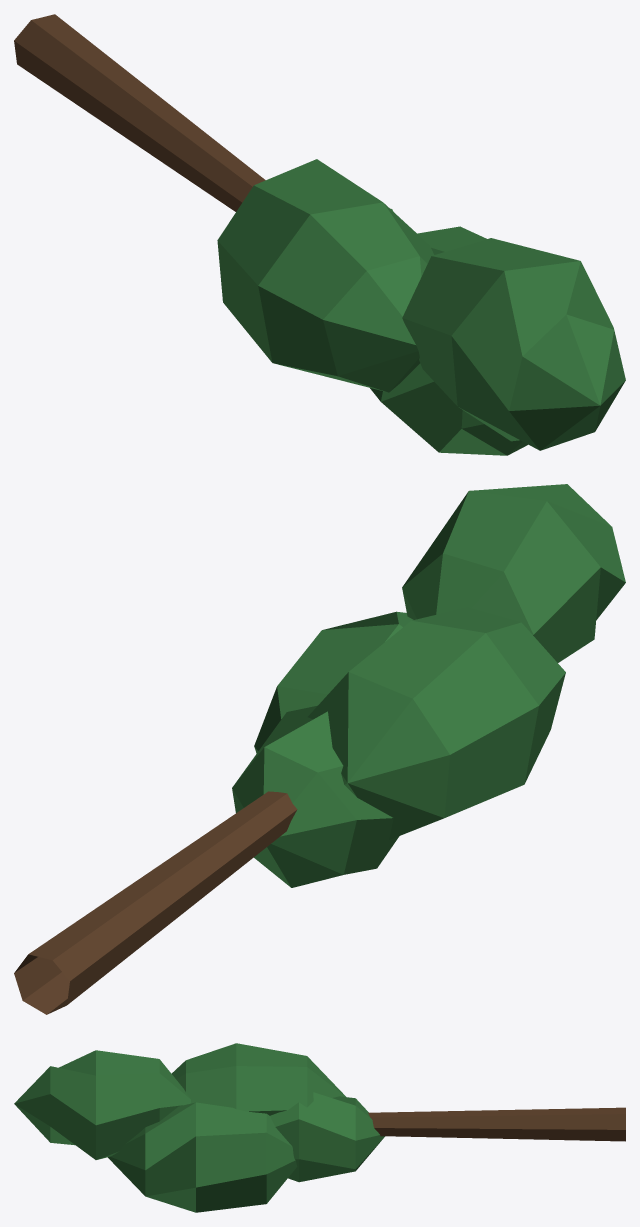
File: growth_1.glb
3 renders of one model, top to bottom at view 1: azimuth 30°, elevation 25°; view 2: azimuth 150°, elevation 25°; view 3: azimuth 270°, elevation 25°, orthographic. The views are drawn at different scales.
Visible parts, largest first — view 1: tree_00_growth_1; view 2: tree_00_growth_1; view 3: tree_00_growth_1.
Part boxes in pixels (x1=…): tree_00_growth_1: x1=14, y1=14, x2=625, y2=455; tree_00_growth_1: x1=14, y1=484, x2=625, y2=1014; tree_00_growth_1: x1=14, y1=1043, x2=625, y2=1212.
Bounding box in the file's own units: 7.75 × 6.92 × 27.28.
